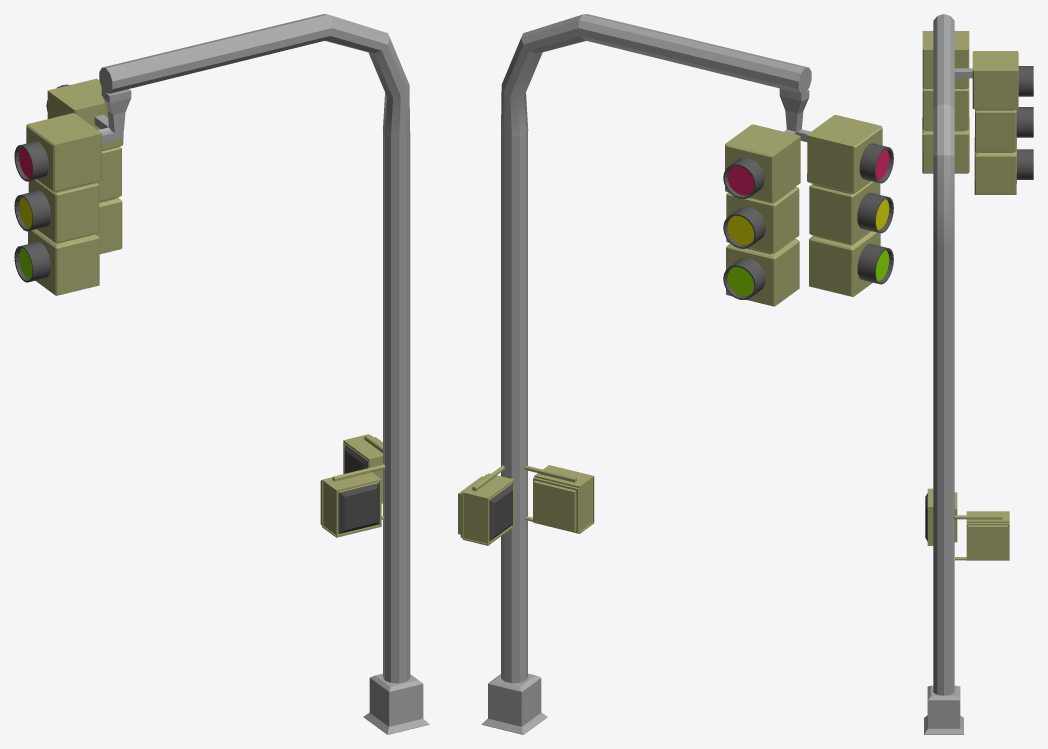
The model's file is Traffic Light 1.fbx.
3 renders of one model, left to right at view 1: azimuth 30°, elevation 25°; view 2: azimuth 150°, elevation 25°; view 3: azimuth 270°, elevation 25°, orthographic. The views are drawn at different scales.
Parts seen in each view (by area): view 1: pasted__polySurface1452; view 2: pasted__polySurface1452; view 3: pasted__polySurface1452.
Boxes of the visible parts, bbox=[...] form: pasted__polySurface1452: bbox=[14, 14, 429, 734]; pasted__polySurface1452: bbox=[458, 14, 893, 734]; pasted__polySurface1452: bbox=[922, 14, 1033, 734].
Bounding box in the file's own units: 18.86 × 33.24 × 5.63.
